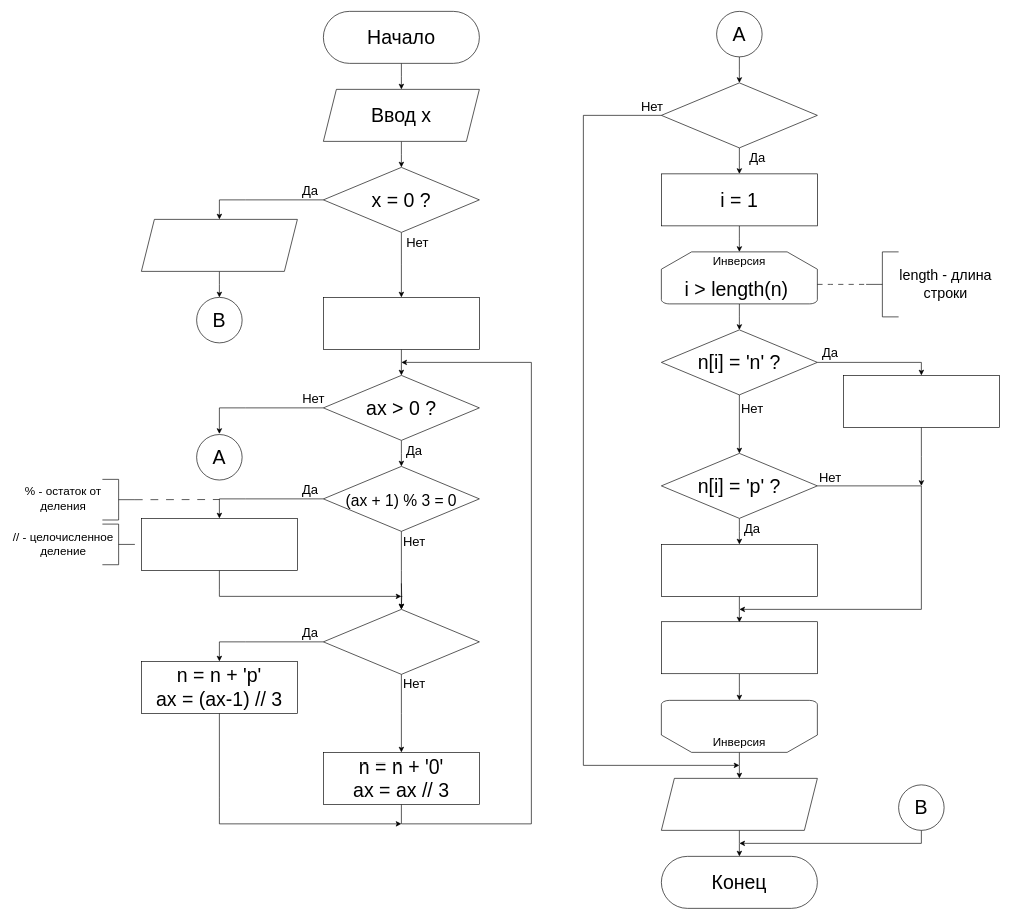
Some shapes in this 1013 by 920 pixel diagram are drawn without their labels. The centre of each missing label's shape, as x and y in pixels:
(ax - 1) % 3 = 0: pixel 401 641
i = i + 1: pixel 739 647
n = "" ax = |x|: pixel 401 323
n = n + 'n' ax = (ax+1) // 3: pixel 219 544
n[i] = 'n': pixel 739 570
n[i] = 'p': pixel 921 401
x < 0 ?: pixel 739 115
Вывод 0: pixel 219 245
Вывод n: pixel 739 804
